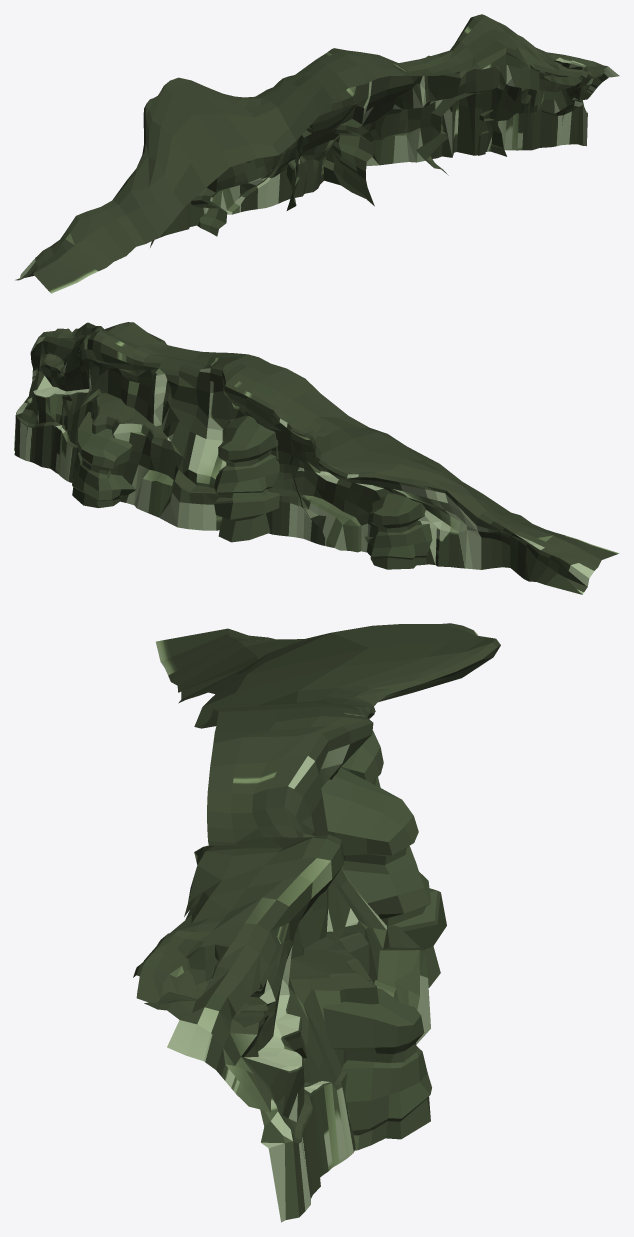
Rendered from EA_Swamp_Clif_01a.glb.
3 renders of one model, top to bottom at view 1: azimuth 30°, elevation 25°; view 2: azimuth 150°, elevation 25°; view 3: azimuth 270°, elevation 25°, orthographic. The views are drawn at different scales.
Parts seen in each view (by area): view 1: EA_Swamp_Clif_01a; view 2: EA_Swamp_Clif_01a; view 3: EA_Swamp_Clif_01a.
Part boxes in pixels (x1=…): EA_Swamp_Clif_01a: x1=15, y1=14, x2=619, y2=293; EA_Swamp_Clif_01a: x1=14, y1=322, x2=619, y2=594; EA_Swamp_Clif_01a: x1=133, y1=623, x2=500, y2=1222.
Bounding box in the file's own units: 187 × 46.28 × 52.1.
1 material, 1 textured.
